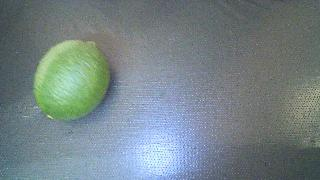EXPORTACION: (34, 40, 111, 121)
